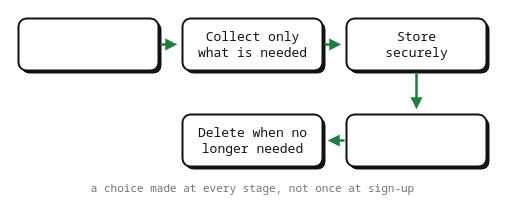
This 506x211 diagram has some shape labels left out. The box of each missing label's shape, as (x1, y1, x2, y2) in pixels:
Ask consent: (17, 17, 159, 71)
Use for the stated purpose: (345, 113, 487, 167)
